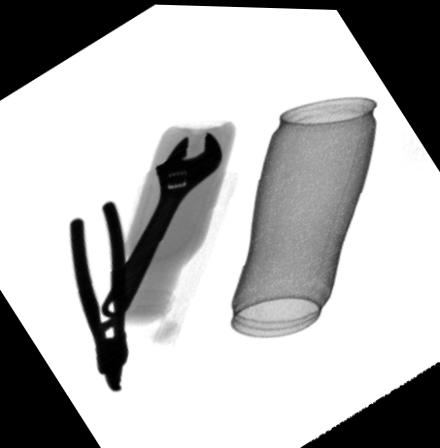Pliers: (67, 197, 128, 393)
Wrench: (98, 128, 223, 321)
